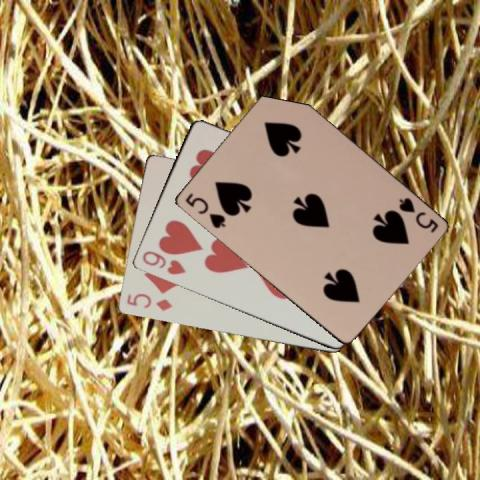5d: (124, 290, 174, 313)
5s: (182, 190, 227, 230), (396, 194, 439, 235)
9h: (138, 248, 186, 277)
